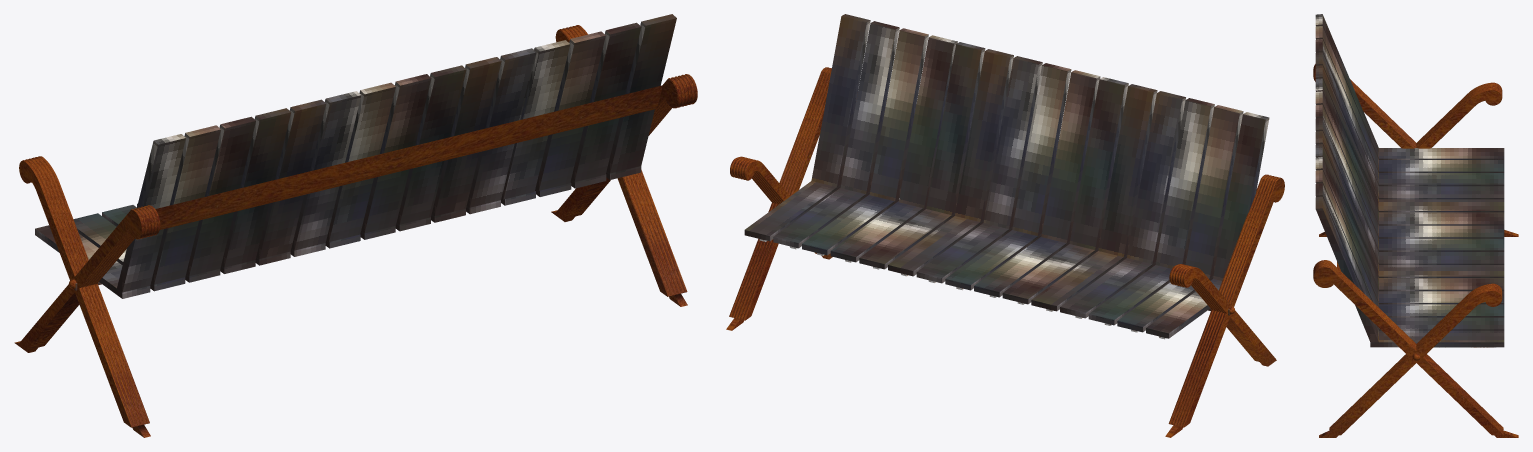
The picture shows the model from 3 angles, left to right: view 1: azimuth 30°, elevation 25°; view 2: azimuth 150°, elevation 25°; view 3: azimuth 270°, elevation 25°; orthographic projection. The views are drawn at different scales.
Visible parts, largest first — view 1: mesh45_mesh45-geometry, mesh40_mesh40-geometry, mesh52_mesh52-geometry, mesh57_mesh57-geometry, mesh50_mesh50-geometry, mesh51_mesh51-geometry, mesh54_mesh54-geometry, mesh61_mesh61-geometry, mesh55_mesh55-geometry, mesh56_mesh56-geometry, mesh60_mesh60-geometry, mesh59_mesh59-geometry (+7 smaller); view 2: mesh45_mesh45-geometry, mesh40_mesh40-geometry, mesh57_mesh57-geometry, mesh51_mesh51-geometry, mesh50_mesh50-geometry, mesh52_mesh52-geometry, mesh54_mesh54-geometry, mesh60_mesh60-geometry, mesh56_mesh56-geometry, mesh55_mesh55-geometry, mesh59_mesh59-geometry, mesh61_mesh61-geometry (+20 smaller); view 3: mesh40_mesh40-geometry, mesh45_mesh45-geometry, mesh87_mesh87-geometry, mesh89_mesh89-geometry, mesh92_mesh92-geometry, mesh88_mesh88-geometry, mesh90_mesh90-geometry, mesh91_mesh91-geometry, mesh85_mesh85-geometry, mesh86_mesh86-geometry, mesh93_mesh93-geometry, mesh80_mesh80-geometry (+20 smaller).
Boxes of the visible parts, x1,y1,x2,y2 form: mesh45_mesh45-geometry: [14, 150, 398, 437]; mesh40_mesh40-geometry: [391, 25, 697, 306]; mesh52_mesh52-geometry: [535, 31, 605, 190]; mesh57_mesh57-geometry: [361, 74, 431, 233]; mesh50_mesh50-geometry: [606, 14, 676, 173]; mesh51_mesh51-geometry: [571, 22, 641, 182]; mesh54_mesh54-geometry: [466, 48, 536, 207]; mesh61_mesh61-geometry: [221, 108, 290, 267]; mesh55_mesh55-geometry: [431, 57, 501, 216]; mesh56_mesh56-geometry: [396, 65, 466, 224]; mesh60_mesh60-geometry: [256, 99, 325, 258]; mesh59_mesh59-geometry: [291, 91, 361, 250]; mesh45_mesh45-geometry: [1165, 174, 1284, 437]; mesh40_mesh40-geometry: [726, 67, 832, 330]; mesh57_mesh57-geometry: [1012, 63, 1071, 235]; mesh51_mesh51-geometry: [840, 21, 899, 194]; mesh50_mesh50-geometry: [811, 14, 870, 186]; mesh52_mesh52-geometry: [869, 28, 928, 201]; mesh54_mesh54-geometry: [926, 42, 985, 214]; mesh60_mesh60-geometry: [1098, 84, 1157, 256]; mesh56_mesh56-geometry: [983, 56, 1042, 228]; mesh55_mesh55-geometry: [955, 49, 1013, 221]; mesh59_mesh59-geometry: [1069, 77, 1128, 249]; mesh61_mesh61-geometry: [1127, 91, 1185, 263]; mesh40_mesh40-geometry: [1313, 260, 1518, 437]; mesh45_mesh45-geometry: [1313, 64, 1518, 236]; mesh87_mesh87-geometry: [1378, 238, 1504, 251]; mesh89_mesh89-geometry: [1378, 212, 1504, 225]; mesh92_mesh92-geometry: [1378, 173, 1504, 186]; mesh88_mesh88-geometry: [1378, 225, 1504, 238]; mesh90_mesh90-geometry: [1378, 199, 1504, 212]; mesh91_mesh91-geometry: [1378, 186, 1504, 199]; mesh85_mesh85-geometry: [1378, 265, 1504, 277]; mesh86_mesh86-geometry: [1378, 252, 1504, 264]; mesh93_mesh93-geometry: [1378, 160, 1504, 172]; mesh80_mesh80-geometry: [1370, 330, 1504, 347].
Size of the model in its own units: 0.8418 by 0.4156 by 0.3443.
